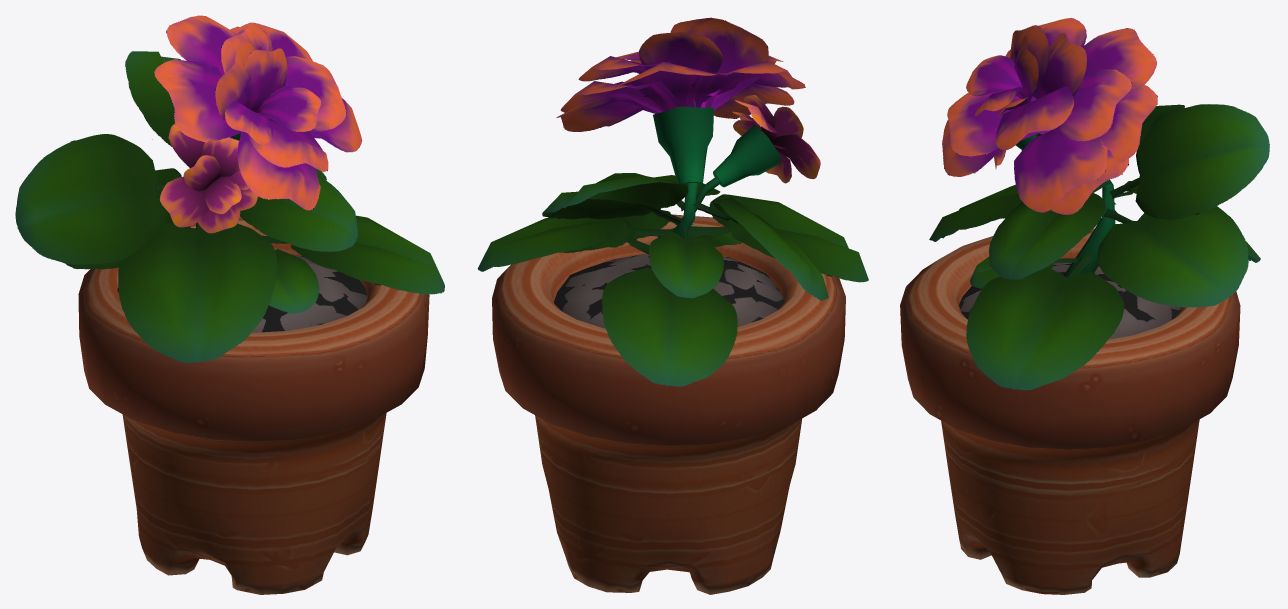
File: ENV1110028.FBX
The picture shows the model from 3 angles, left to right: view 1: azimuth 30°, elevation 25°; view 2: azimuth 150°, elevation 25°; view 3: azimuth 270°, elevation 25°; orthographic projection. The views are drawn at different scales.
Parts seen in each view (by area): view 1: smENV1110028; view 2: smENV1110028; view 3: smENV1110028.
Boxes of the visible parts, x1,y1,x2,y2 form: smENV1110028: (15, 15, 444, 594); smENV1110028: (477, 17, 868, 594); smENV1110028: (900, 18, 1269, 594).
Size of the model in its own units: 10.19 by 14.43 by 9.4.
Materials: 1 (1 with a texture image).
